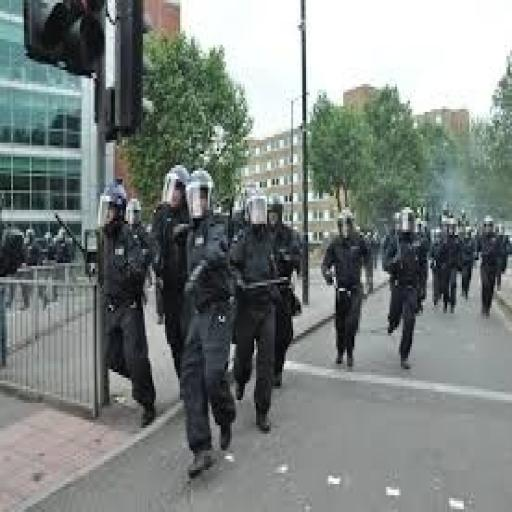running: (174, 165, 240, 481), (92, 179, 160, 431), (226, 190, 288, 436), (319, 204, 373, 372), (382, 204, 430, 372)
